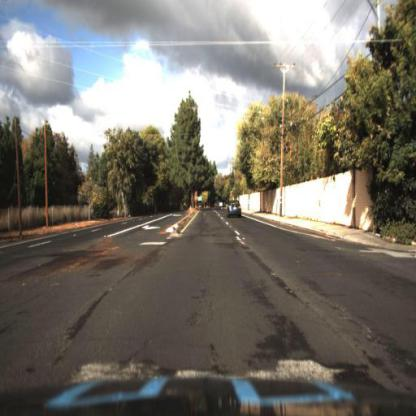car: (225, 200, 244, 220)
